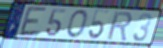3: (132, 12, 152, 42)
5: (87, 8, 113, 41), (45, 8, 68, 37)
E: (17, 5, 49, 37)
O: (65, 8, 89, 39)
R: (106, 10, 134, 42)
